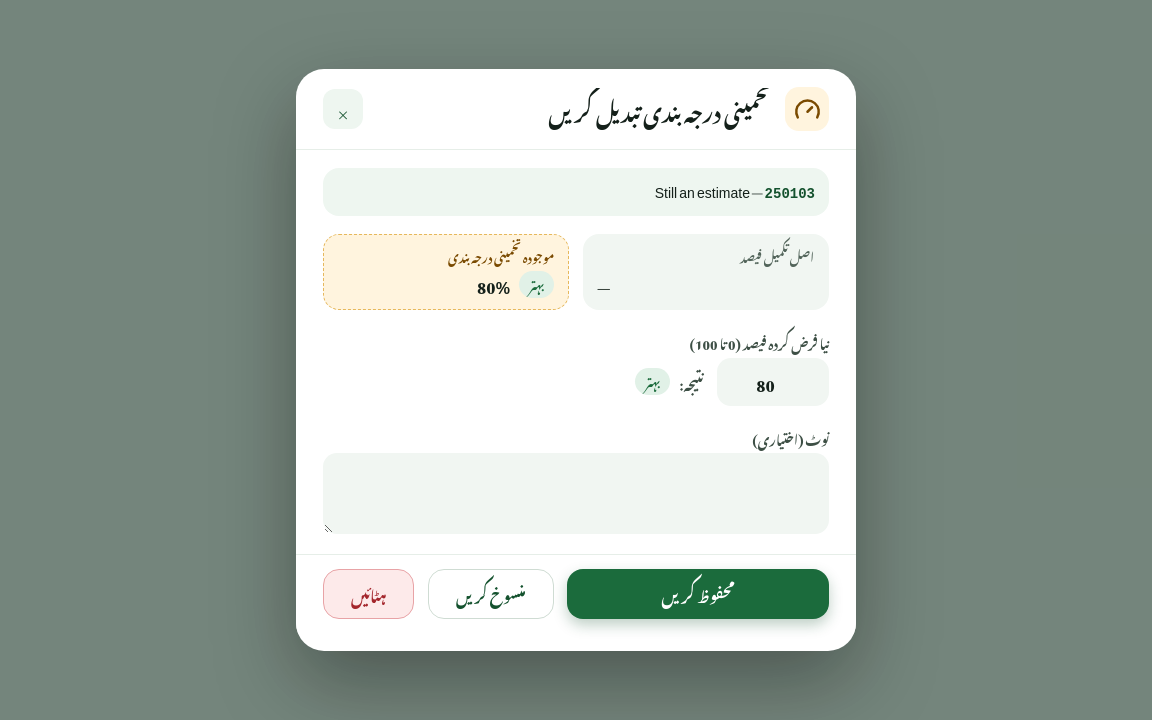
Scenario: saving: the confirmation that the new value is final › the band in the question is the one the admin is about to save (no late downgrade)
The image size is (1152, 720).
Replace the text in the number field labelled "نیا فرض کردہ فیصد (0 تا 100)" with "72" at (773, 382), box [717,358,829,406]
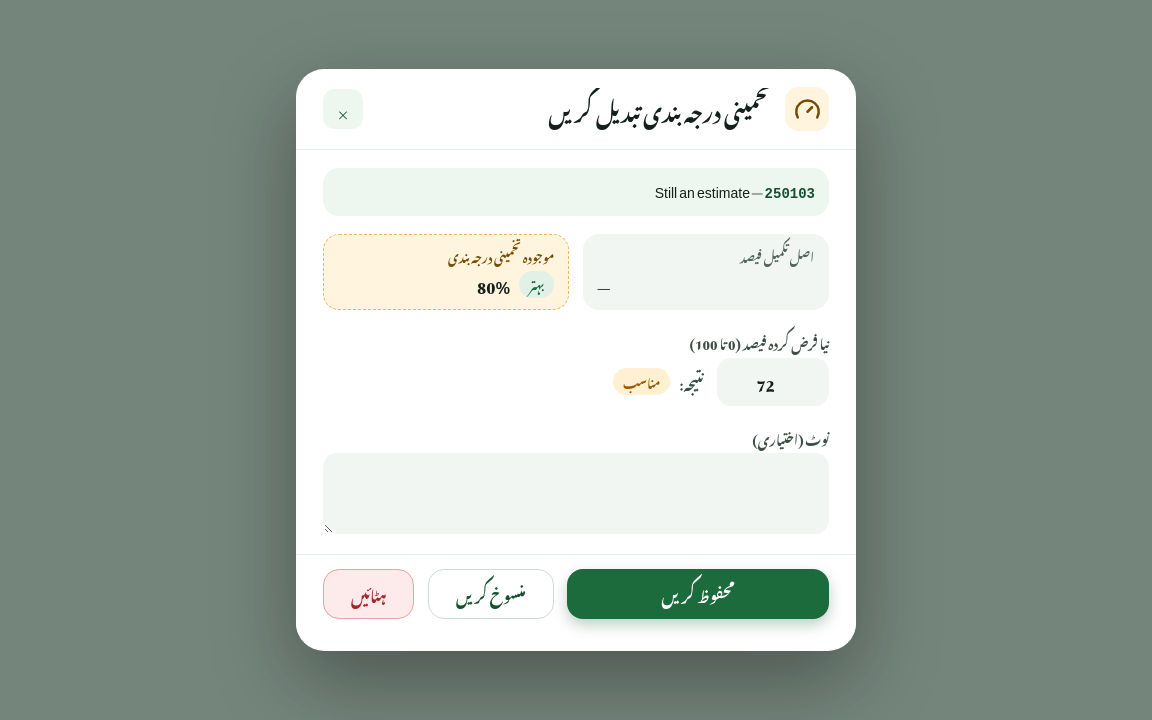
Click the button "محفوظ کریں" at (698, 594), box [567,569,829,619]
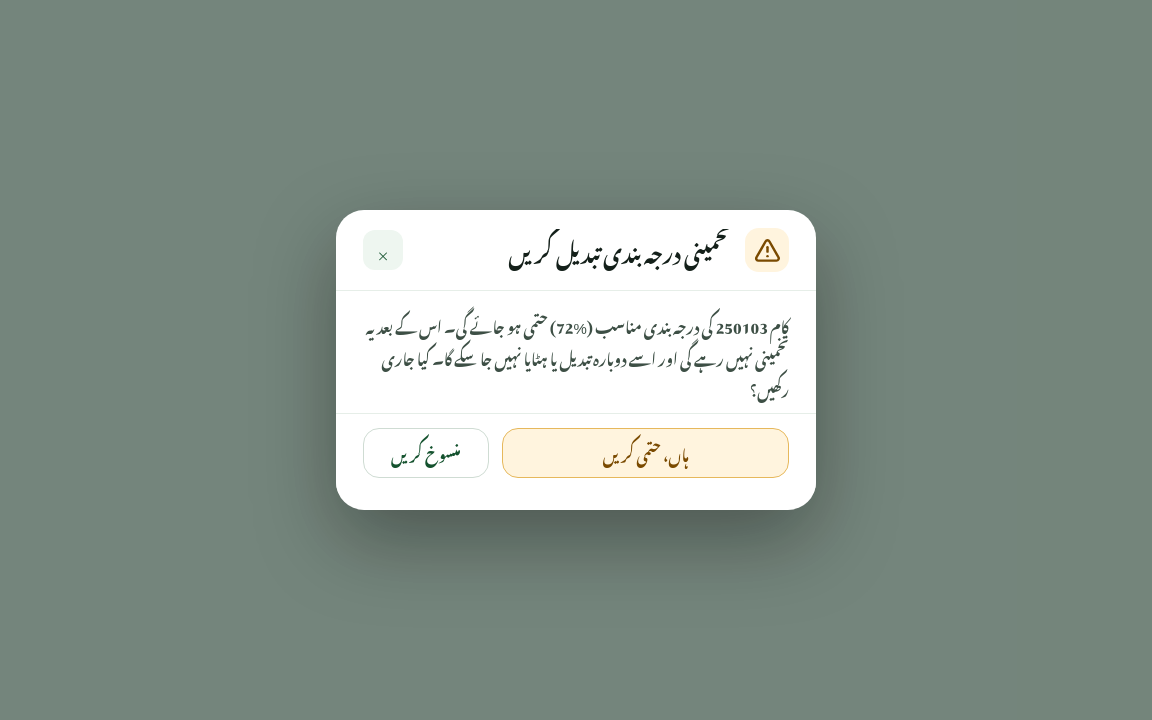
Expected: the element that starts with "کام" shows "کی درجہ بندی مناسب (72%) حتمی", [363,309,789,413]
